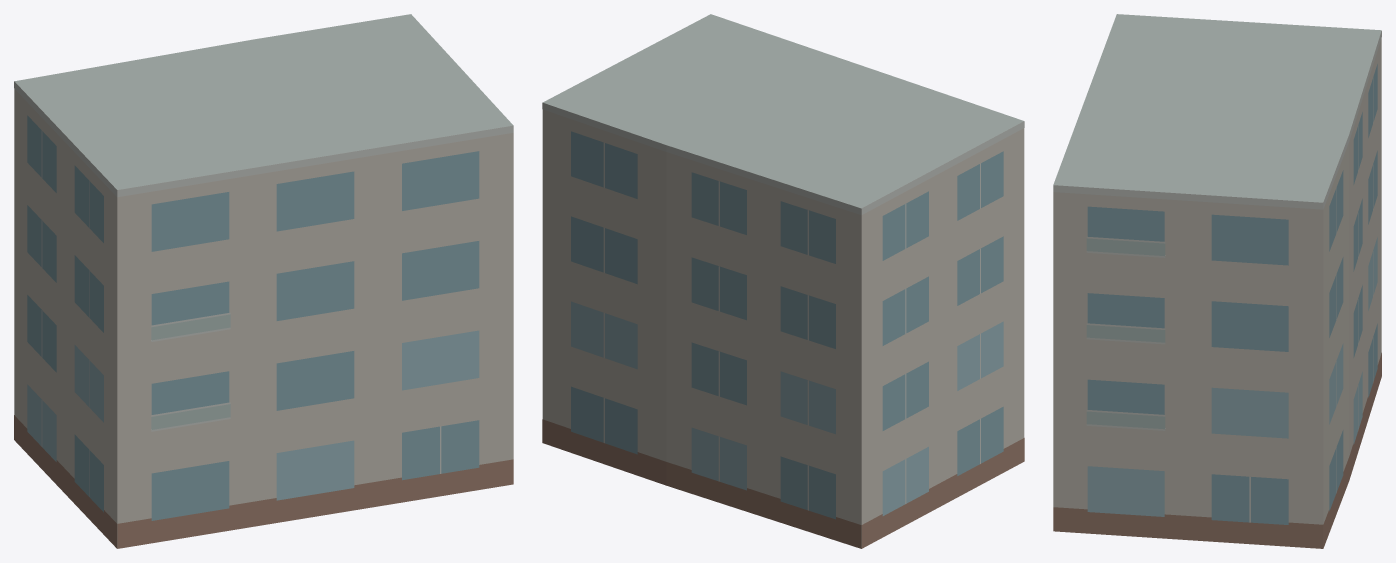
The model's file is survey-upis-32637967.glb.
The picture shows the model from 3 angles, left to right: view 1: azimuth 30°, elevation 25°; view 2: azimuth 150°, elevation 25°; view 3: azimuth 270°, elevation 25°; orthographic projection. The views are drawn at different scales.
Parts seen in each view (by area): view 1: survey-upis-32637967.tmp; view 2: survey-upis-32637967.tmp; view 3: survey-upis-32637967.tmp.
Boxes of the visible parts, x1,y1,x2,y2 form: survey-upis-32637967.tmp: [14, 14, 513, 548]; survey-upis-32637967.tmp: [542, 14, 1024, 548]; survey-upis-32637967.tmp: [1053, 14, 1381, 548].
Bounding box in the file's own units: 14.28 × 12.2 × 10.51.
